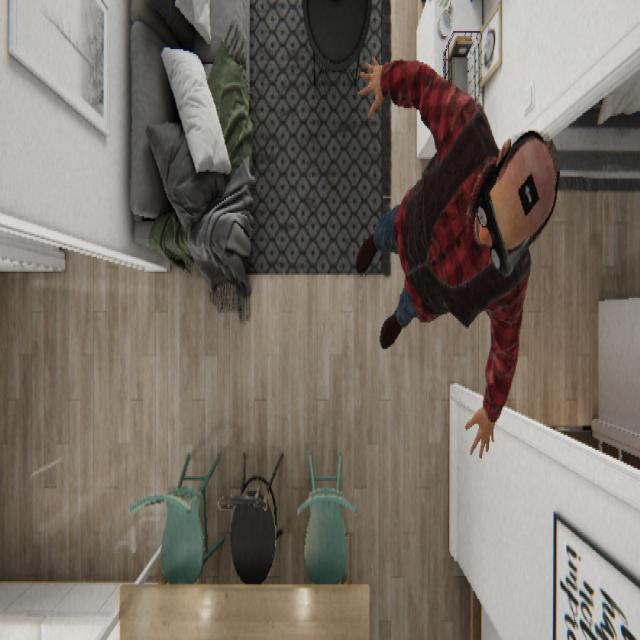Human: (354, 52, 560, 458)
UnityLogo: (481, 126, 560, 277), (516, 168, 540, 218)
